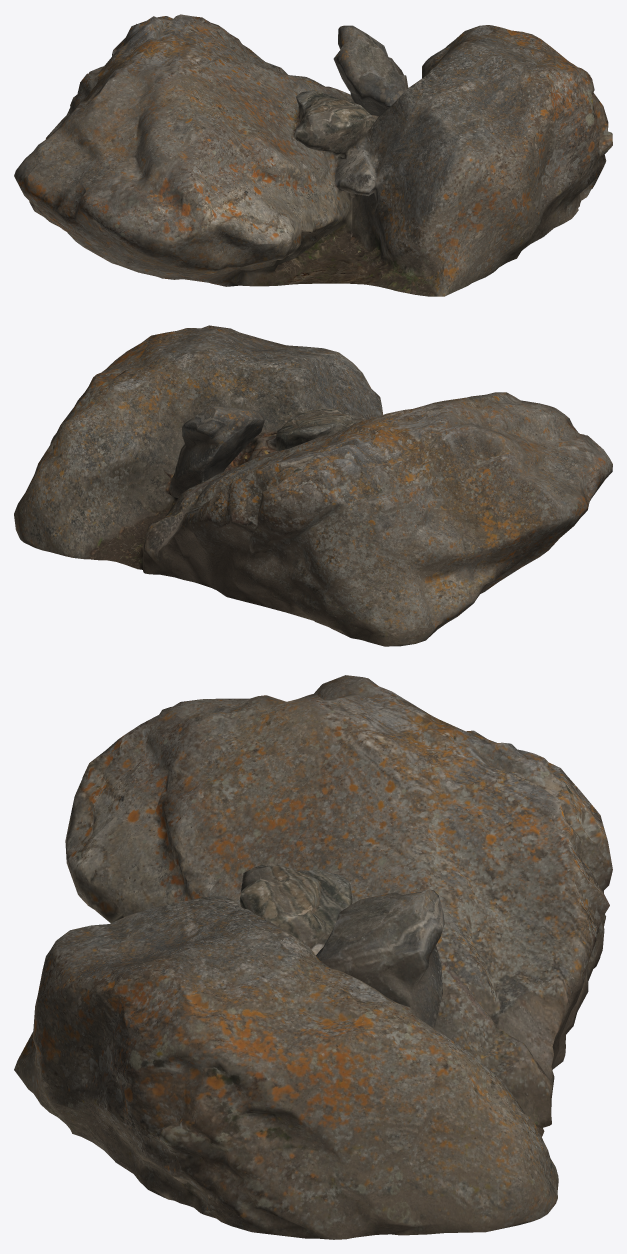
File: SM_wgxfeamcc_tier_2.gltf
3 renders of one model, top to bottom at view 1: azimuth 30°, elevation 25°; view 2: azimuth 150°, elevation 25°; view 3: azimuth 270°, elevation 25°, orthographic. The views are drawn at different scales.
Visible parts, largest first — view 1: wgxfeamcc_LOD2_TIER2_000; view 2: wgxfeamcc_LOD2_TIER2_000; view 3: wgxfeamcc_LOD2_TIER2_000.
Boxes of the visible parts, box(x1,y1,x2,y2) form: wgxfeamcc_LOD2_TIER2_000: box(14, 14, 612, 296); wgxfeamcc_LOD2_TIER2_000: box(14, 325, 612, 646); wgxfeamcc_LOD2_TIER2_000: box(14, 675, 612, 1239).
Bounding box in the file's own units: 1.66 × 0.5142 × 1.1.
Materials: 1 (1 with a texture image).
